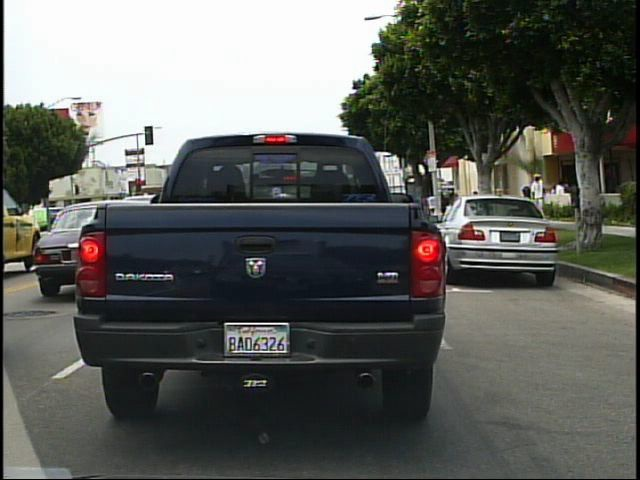person: (530, 167, 553, 218), (551, 176, 569, 222), (559, 175, 575, 214), (446, 186, 462, 219)
